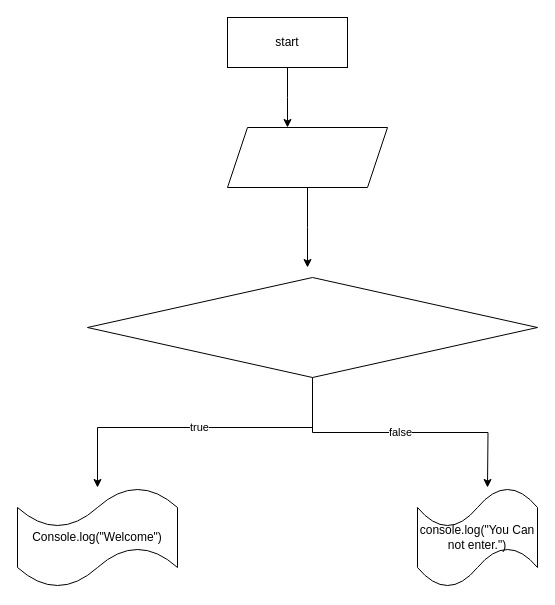
Some shapes in this 555 by 605 pixel diagram are drawn without their labels. The box of each missing label's shape, as (x1, y1, x2, y2) in pixels:
age>0: (226, 126, 388, 188)
if(age>18): (86, 276, 538, 378)
